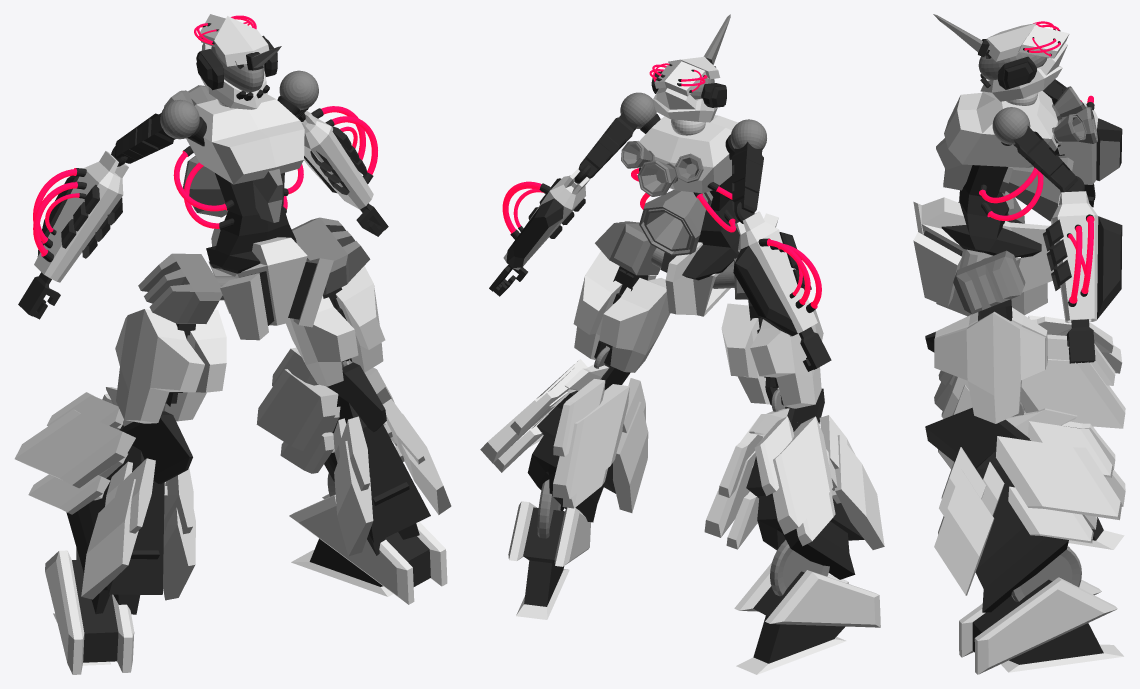
Rendered from robot31_2_エクスポート用.fbx.
3 renders of one model, left to right at view 1: azimuth 30°, elevation 25°; view 2: azimuth 150°, elevation 25°; view 3: azimuth 270°, elevation 25°, orthographic. The views are drawn at different scales.
Parts seen in each view (by area): view 1: asi_2_R, body, asi_2_L, asi_1_R, asi_1_L, asisaki_L, arm_2_R, asisaki_R, head, arm_2_L, arm_1_R, ブースター (+2 smaller); view 2: asi_2_R, asi_2_L, body, asi_1_L, asisaki_R, asi_1_R, arm_2_R, asisaki_L, head, arm_2_L, ブースター, arm_1_R (+5 smaller); view 3: asi_2_L, body, asi_1_L, asisaki_L, asi_2_R, arm_2_L, head, arm_1_L, arm_2_R, ブースター, asi_1_R, hand_L (+4 smaller).
Boxes of the visible parts, box(x1,y1,x2,y2) form: asi_2_R: box(14, 387, 195, 614); body: box(173, 94, 333, 340); asi_2_L: box(256, 347, 451, 556); asi_1_R: box(115, 253, 235, 423); asi_1_L: box(286, 217, 385, 386); asisaki_L: box(289, 473, 447, 604); arm_2_R: box(33, 146, 128, 282); asisaki_R: box(45, 547, 134, 674); head: box(194, 14, 281, 109); arm_2_L: box(299, 106, 377, 209); arm_1_R: box(115, 99, 199, 163); ブースター: box(183, 156, 228, 217); asi_2_R: box(704, 388, 884, 579); asi_2_L: box(480, 347, 648, 522); body: box(631, 114, 778, 316); asi_1_L: box(573, 221, 670, 372); asisaki_R: box(734, 540, 880, 674); asi_1_R: box(712, 258, 823, 408); arm_2_R: box(733, 202, 821, 336); asisaki_L: box(508, 479, 590, 619); head: box(649, 14, 730, 135); arm_2_L: box(502, 165, 590, 270); ブースター: box(639, 190, 713, 255); arm_1_R: box(730, 119, 766, 213); asi_2_L: box(925, 401, 1125, 612); body: box(913, 90, 1058, 306); asi_1_L: box(934, 250, 1047, 423); asisaki_L: box(959, 546, 1123, 674); asi_2_R: box(925, 315, 1125, 469); arm_2_L: box(1043, 176, 1122, 322); head: box(933, 14, 1069, 105); arm_1_L: box(992, 107, 1077, 190); arm_2_R: box(1054, 95, 1122, 184); ブースター: box(999, 155, 1073, 221); asi_1_R: box(936, 191, 1047, 316); hand_L: box(1066, 319, 1095, 363).
Bounding box in the file's own units: 747 × 1163 × 384.
